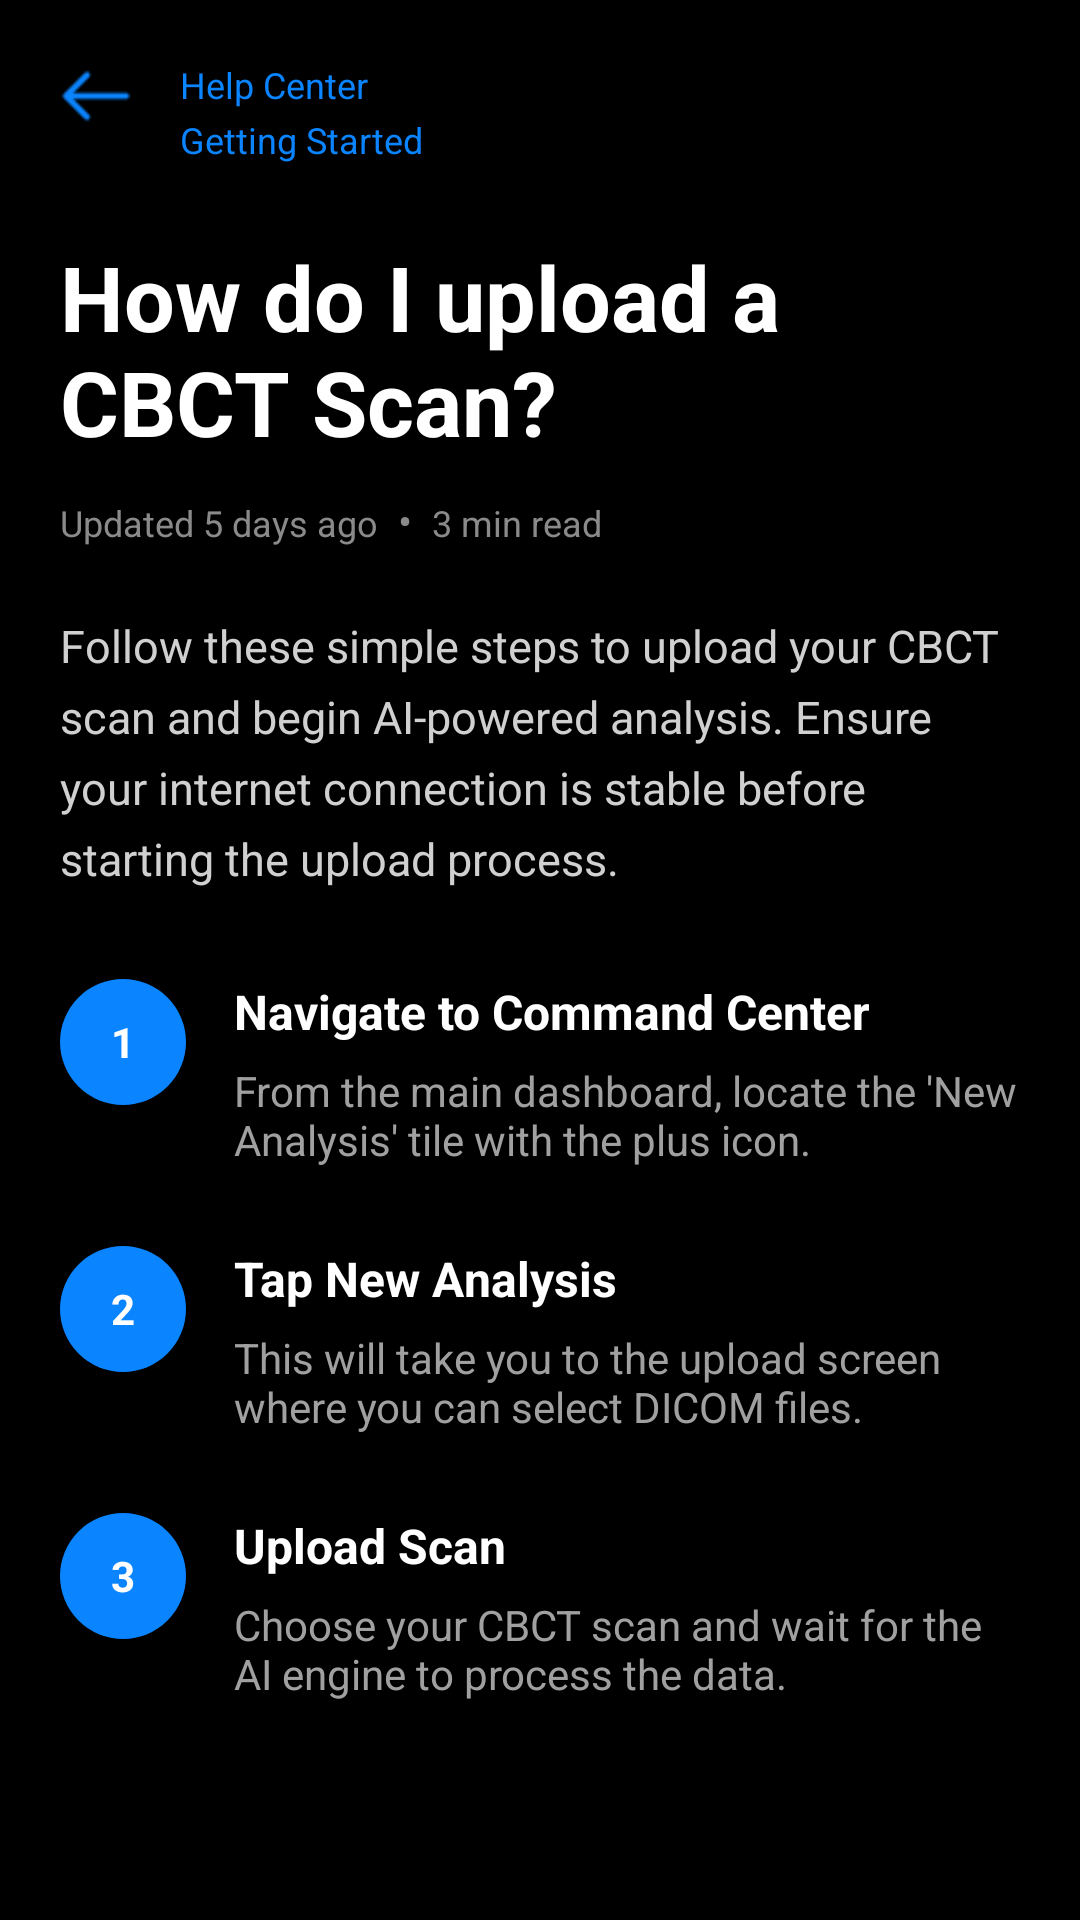

Named icons in this screenshot (1080px x 1920px) and their centers, [x,y]:
back: [96,96]
